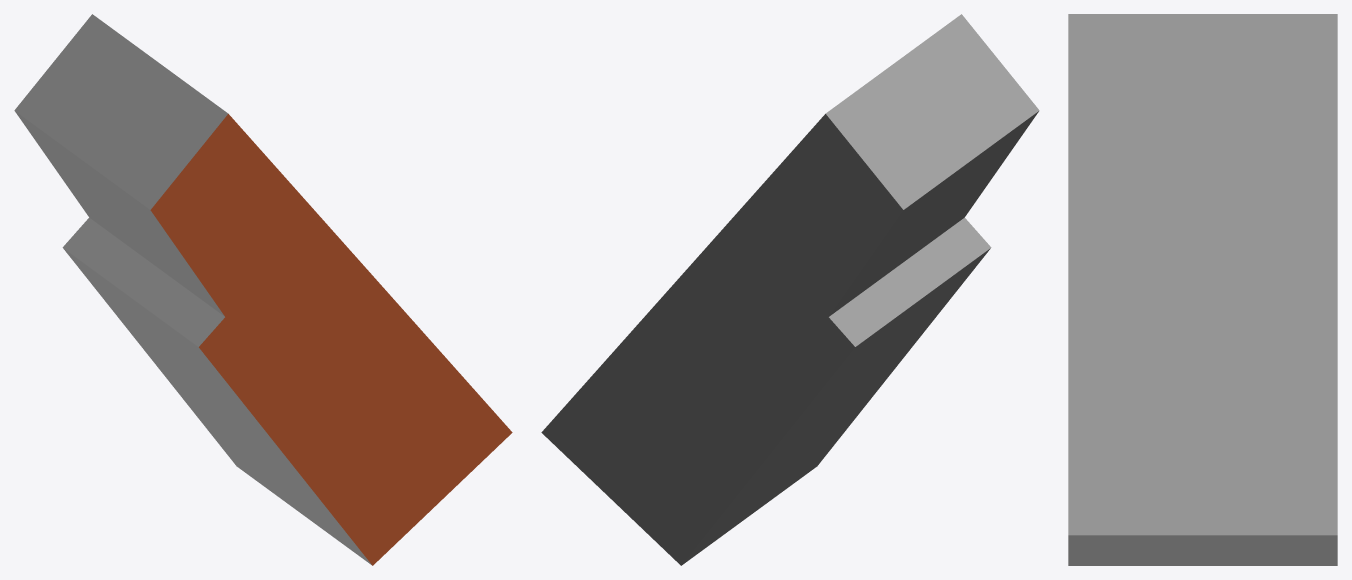
File: construction_1367_assumed_A_Casa_h6m.obj
3 views of the same model, side by side, from view 1: azimuth 30°, elevation 25°; view 2: azimuth 150°, elevation 25°; view 3: azimuth 270°, elevation 25° (orthographic).
Visible parts, largest first — view 1: construction_1367_assumed_A_Casa; view 2: construction_1367_assumed_A_Casa; view 3: construction_1367_assumed_A_Casa.
Boxes of the visible parts, left/top/right/bottom form: construction_1367_assumed_A_Casa: left=14, top=14, right=512, bottom=565; construction_1367_assumed_A_Casa: left=541, top=14, right=1039, bottom=565; construction_1367_assumed_A_Casa: left=1068, top=14, right=1337, bottom=565.
Bounding box in the file's own units: 9.22 × 11.86 × 6.
